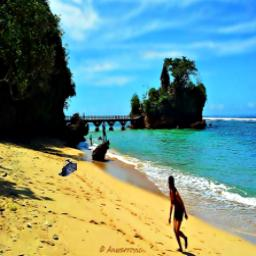Crow: (59, 160, 78, 177)
